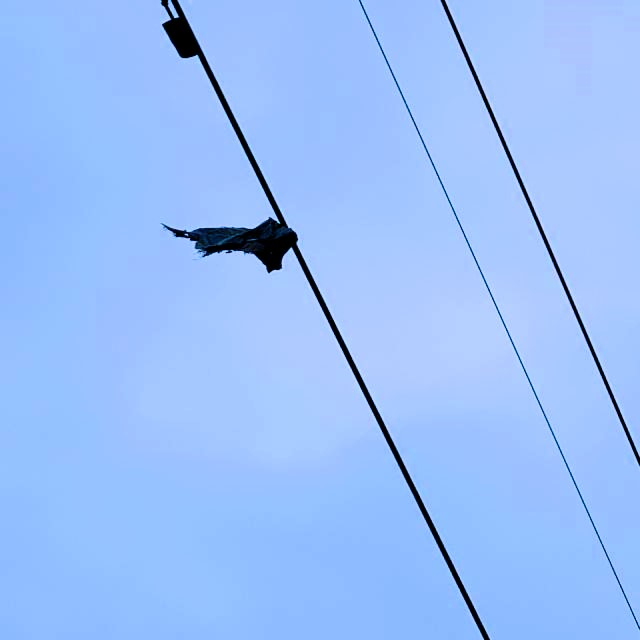wire foreign body: (160, 206, 320, 289)
